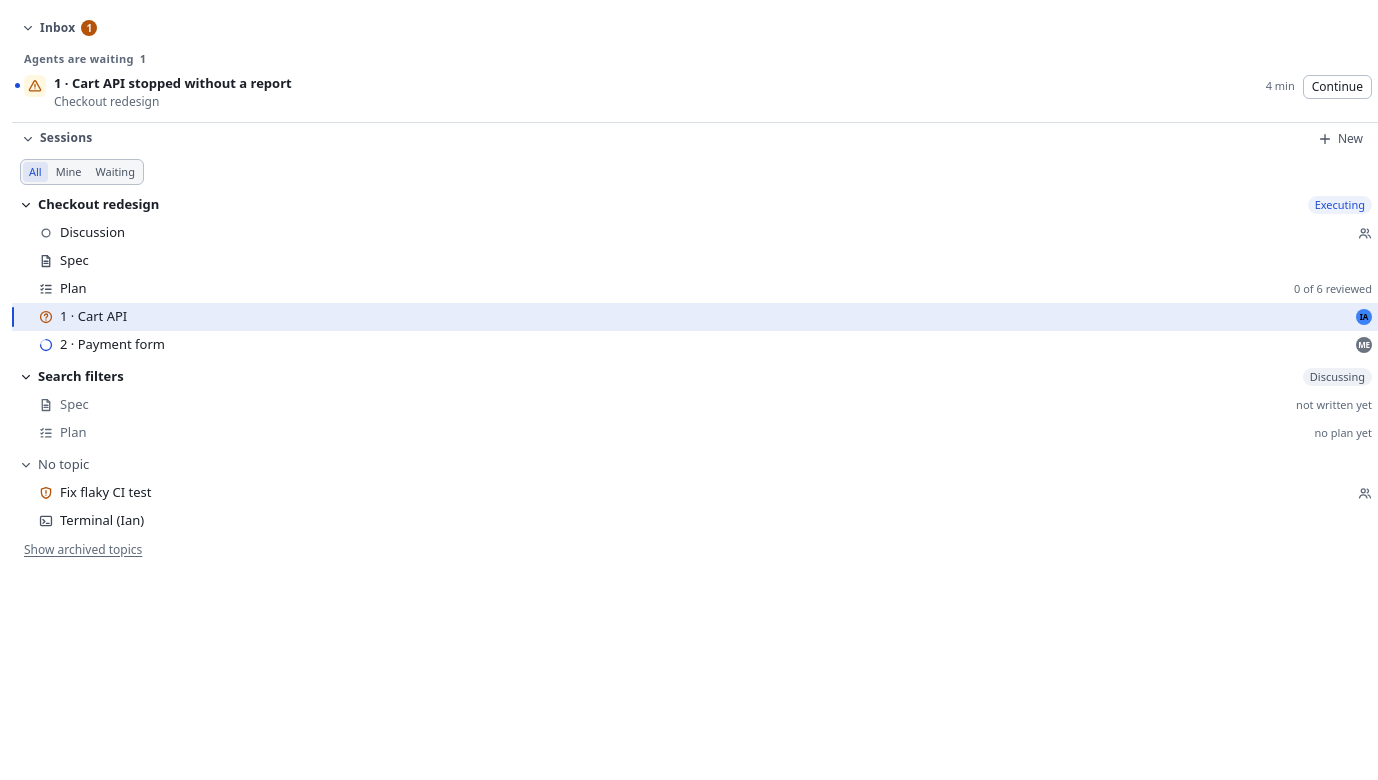
Test: the inbox › a row's own action does its one thing without opening the item; a refusal is said
This screenshot has width=1378, height=780.
Expected: the text with class "inbox-item__title" reads "1 · Cart API stopped without a report", [54,74,292,92]
Click the button "Continue": (1337, 87) [1303,75,1372,99]
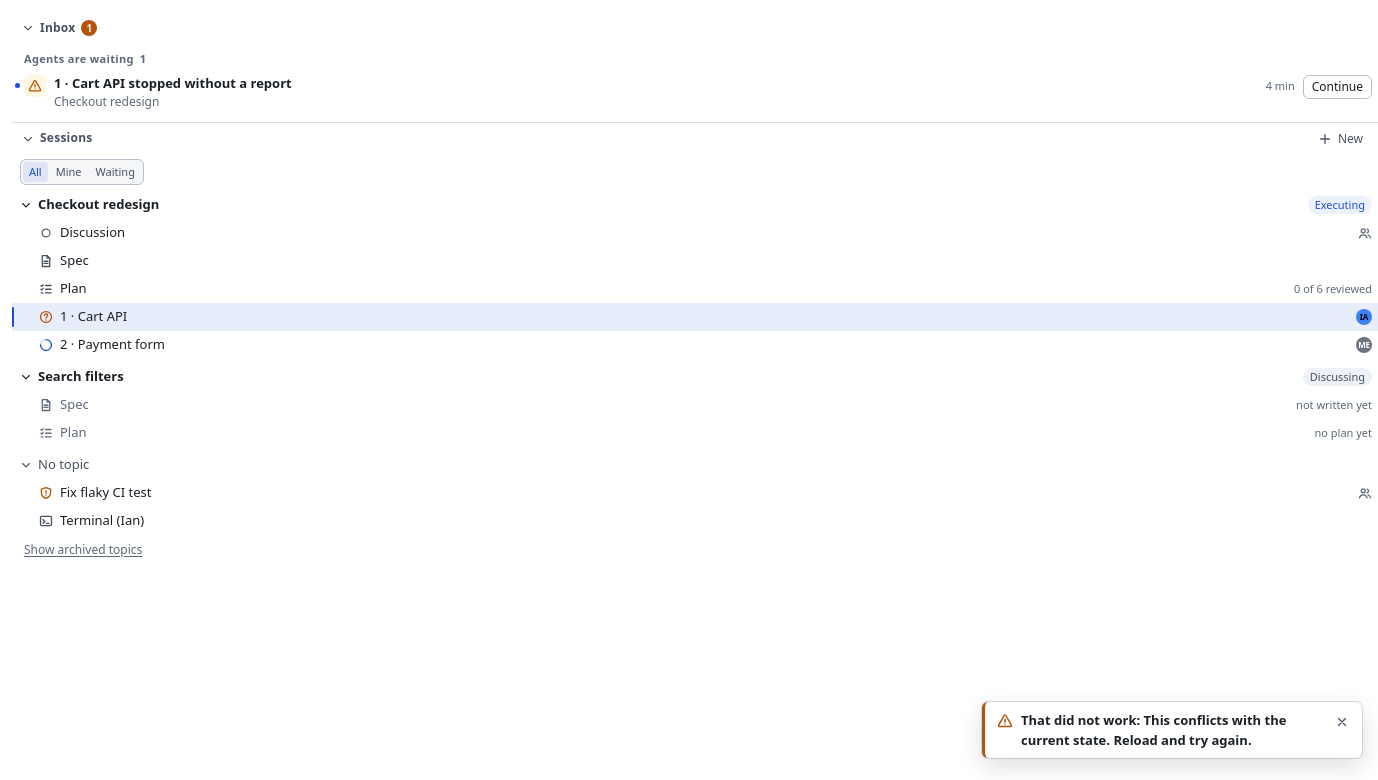
Expected: the text "That did not work:" is shown, [1021,711,1286,749]
